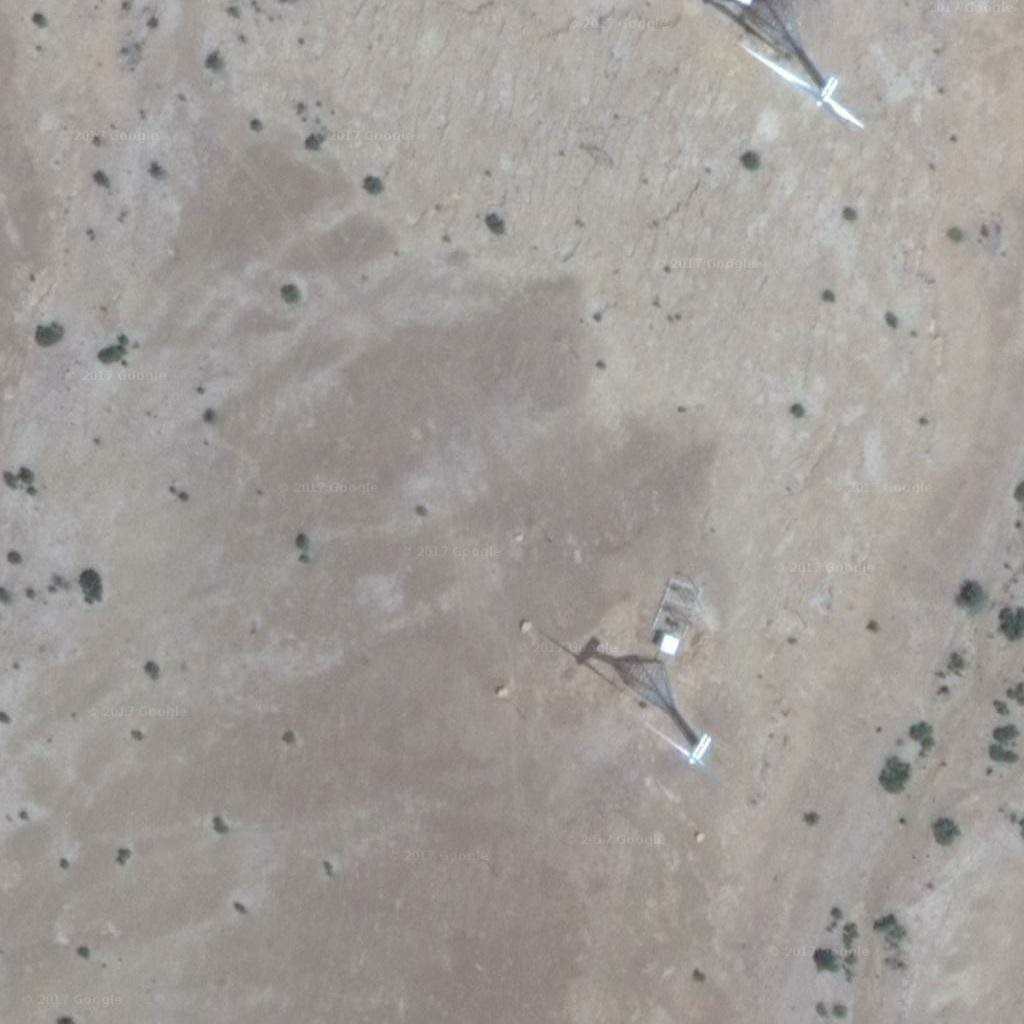Windmill: (716, 1, 886, 158)
